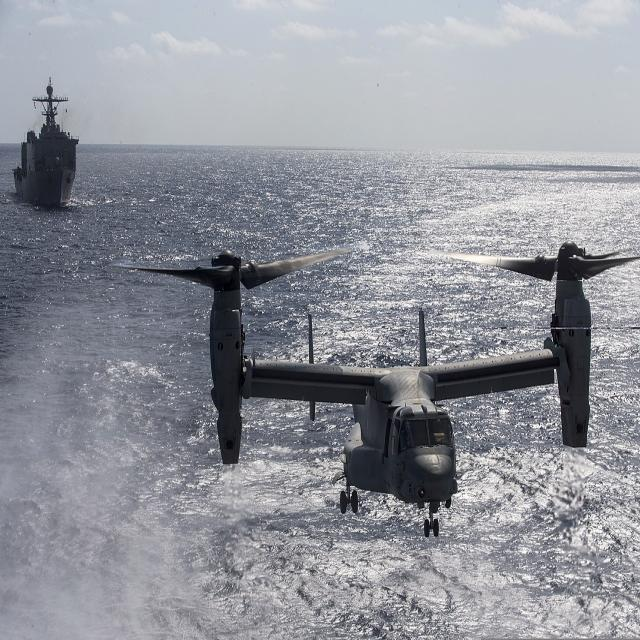MIL_Plane: (112, 240, 635, 538)
